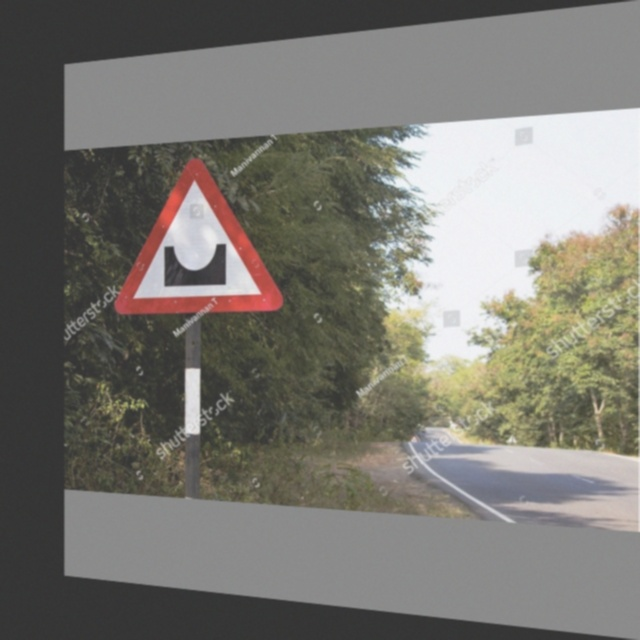Dangerous_Dip: (113, 154, 279, 312)
